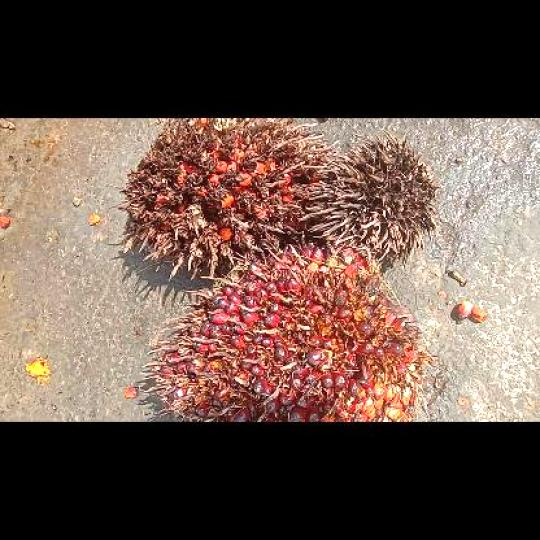masak: (138, 244, 436, 421)
terlalu masak: (112, 118, 329, 277)
